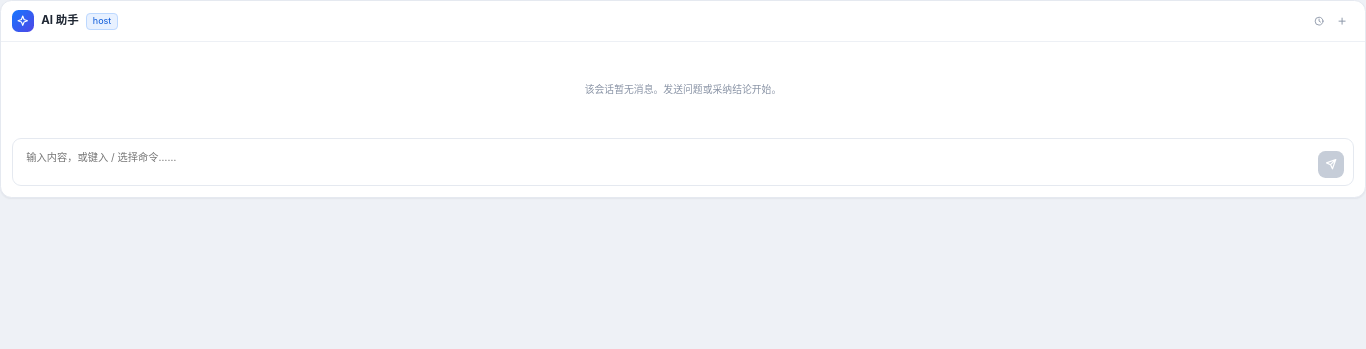
ChatWidget 发送（§3.2/§8） › 自由输入发送：经 transport 拼装并发出，回执落线程，记 chat.send.settled（只记长度）
The width and height of the screenshot is (1366, 349).
In the text box named "消息输入": point(667, 162) [24, 146, 1311, 178], type "你好世界"
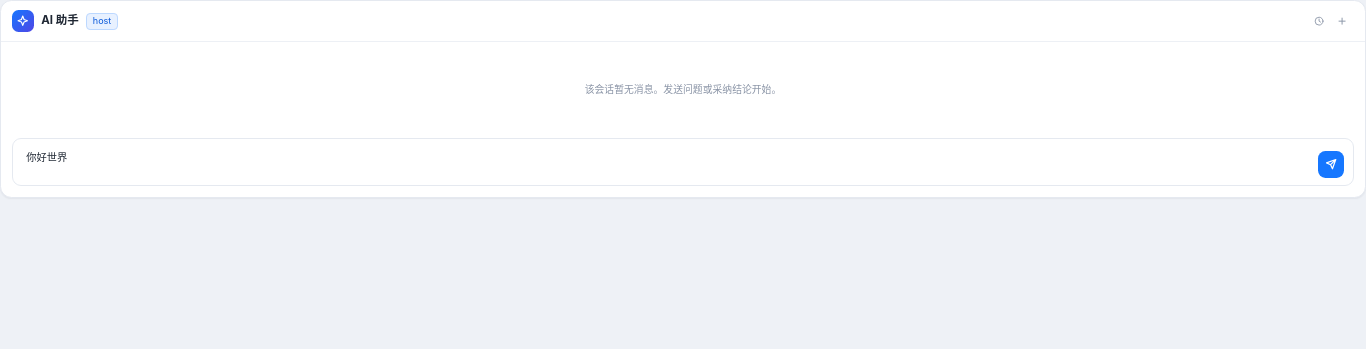
Click the button named "发送": point(1331, 165) [1318, 152, 1344, 178]
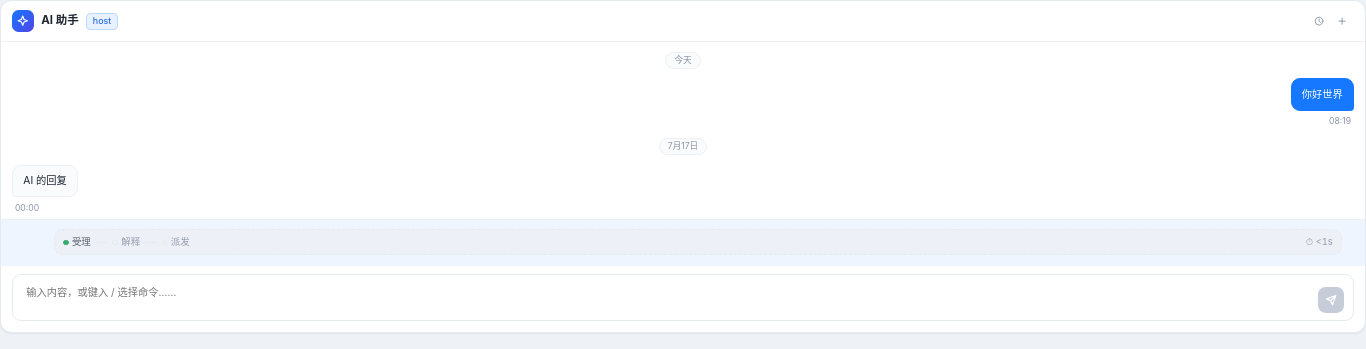
expect the text box named "消息输入" is empty: met, box [24, 282, 1311, 313]
expect the text "AI 的回复" is shown: met, box [12, 165, 78, 197]
